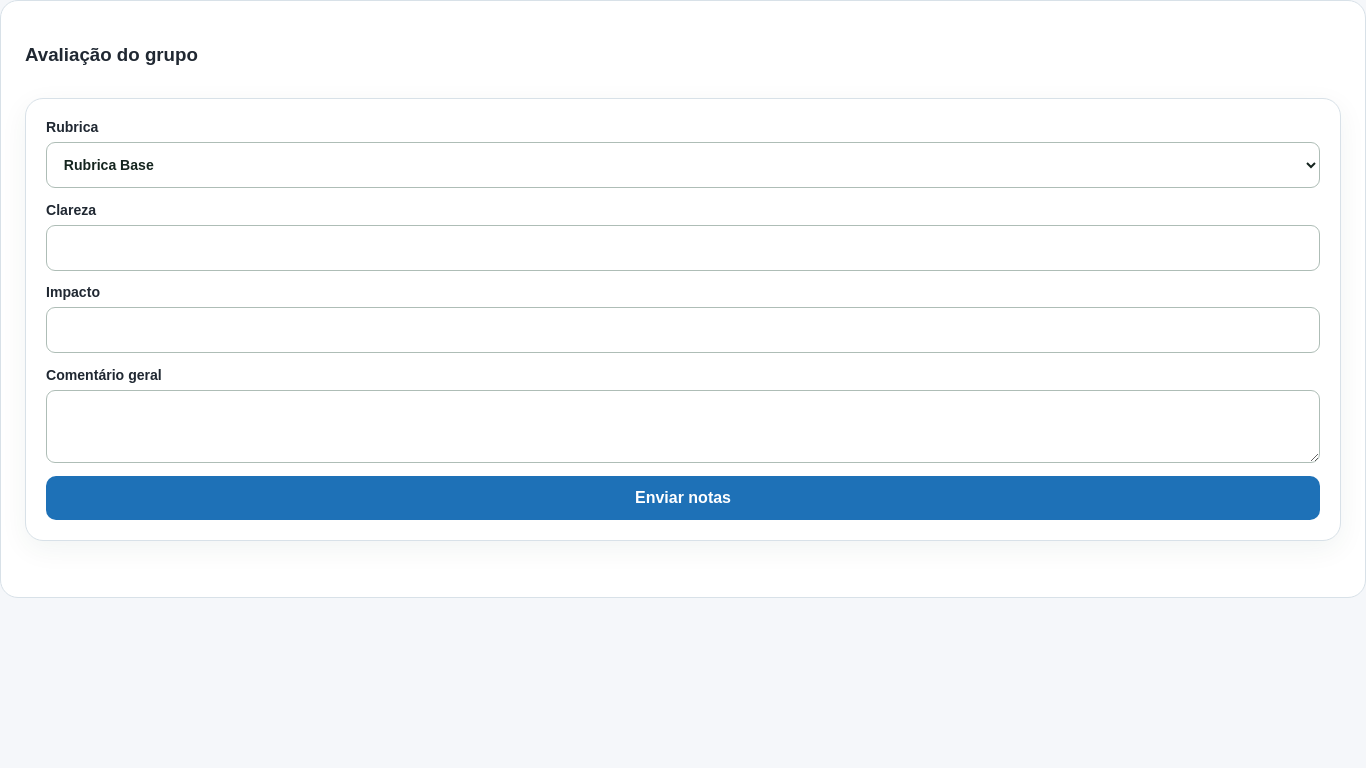
avaliação do grupo › avaliador lança notas e vê a média
The width and height of the screenshot is (1366, 768).
Expected: the text "Clareza" is shown, [46, 202, 1320, 271]
Type "8.12" into the number field labelled "Clareza". click: (683, 248)
box: [46, 225, 1320, 271]
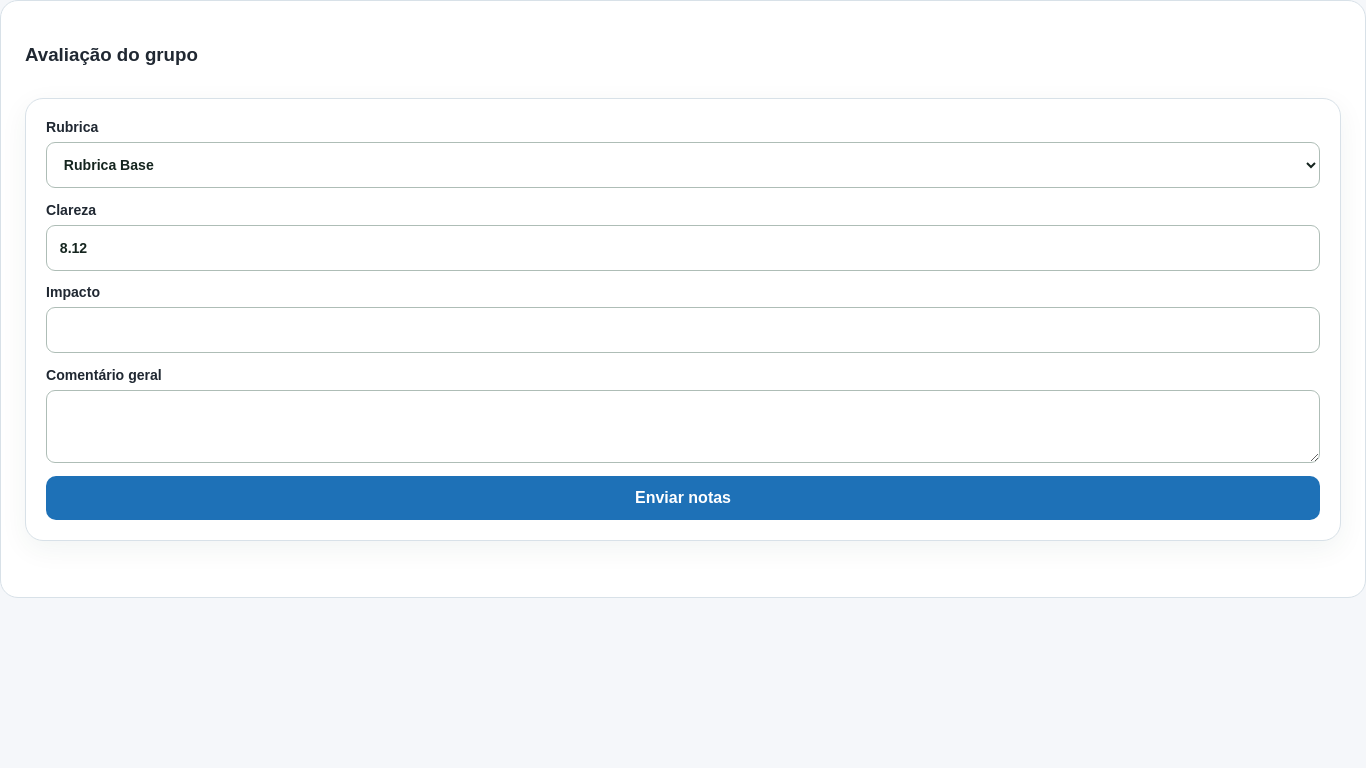
Type "8.13" into the number field labelled "Impacto". click: (683, 330)
box: [46, 308, 1320, 354]
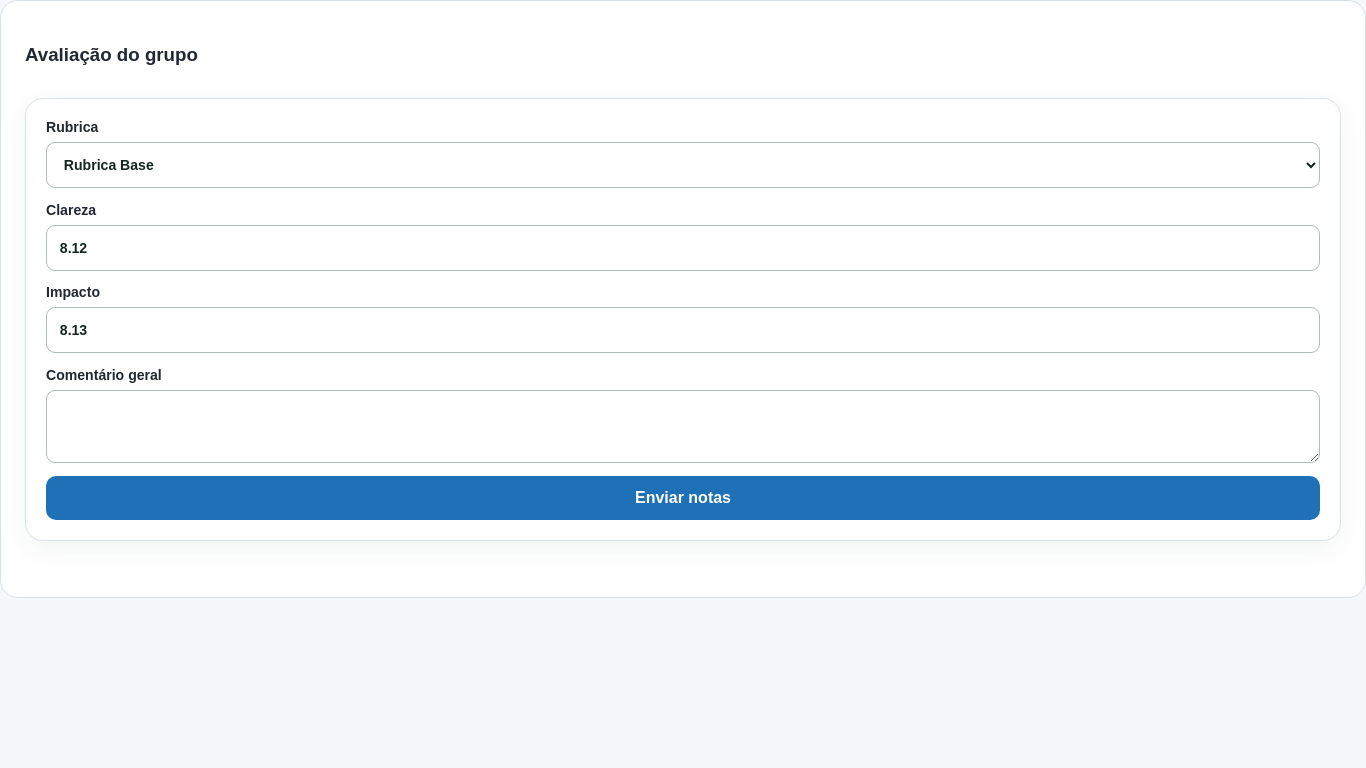
Click the button "Enviar notas". click: (683, 498)
box: [46, 476, 1320, 520]
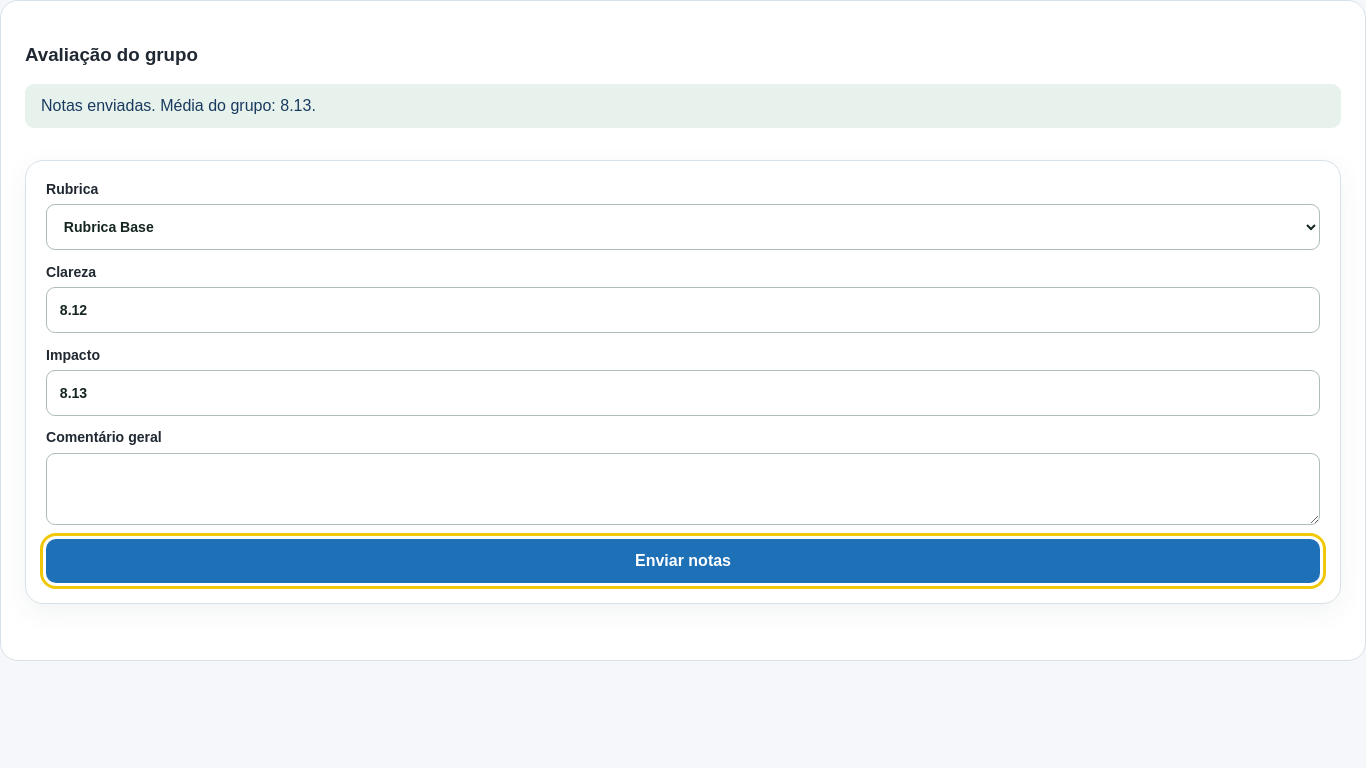
Expected: the text "Notas enviadas. Média do grupo: 8.13." is shown, [25, 84, 1341, 128]
